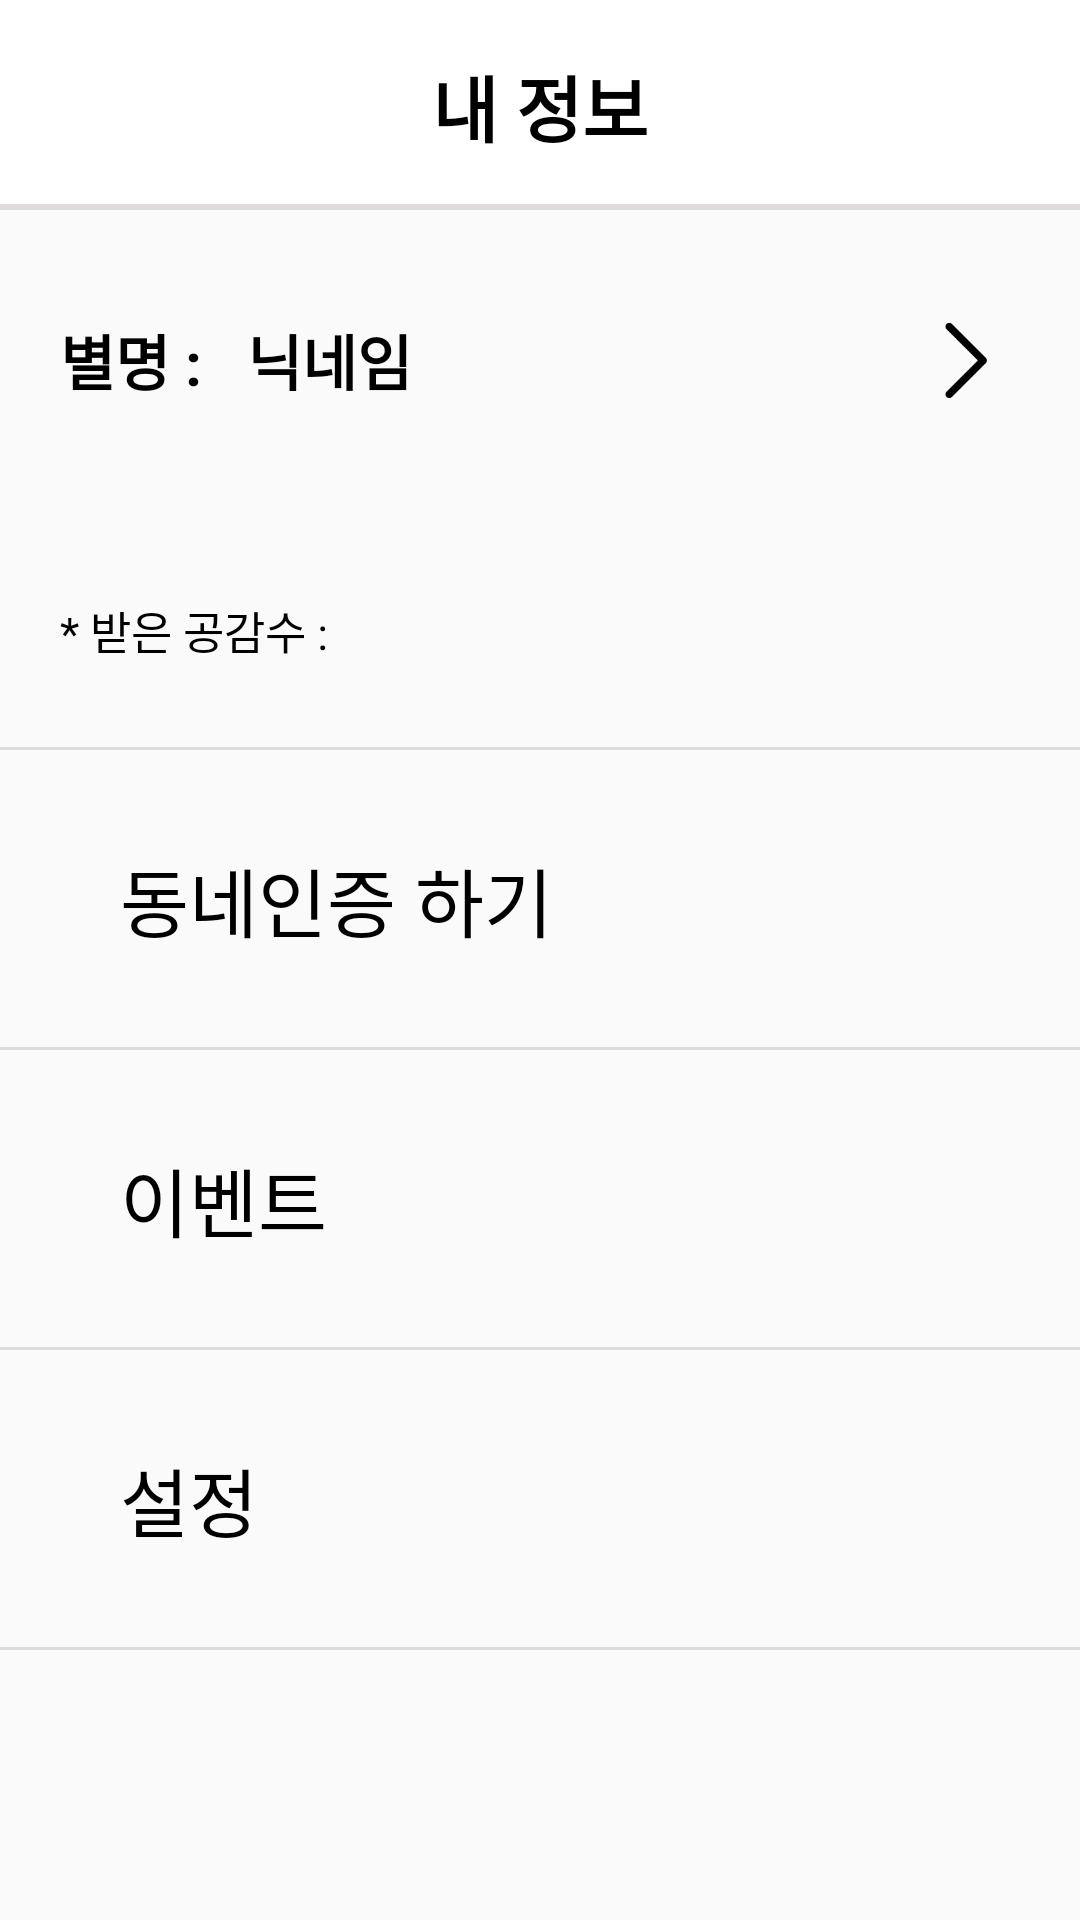

Icon bounding boxes for this 1080*1920 phone screenshot, format (x1, y1, x2, y2):
arrow right: (945, 323, 987, 398)
